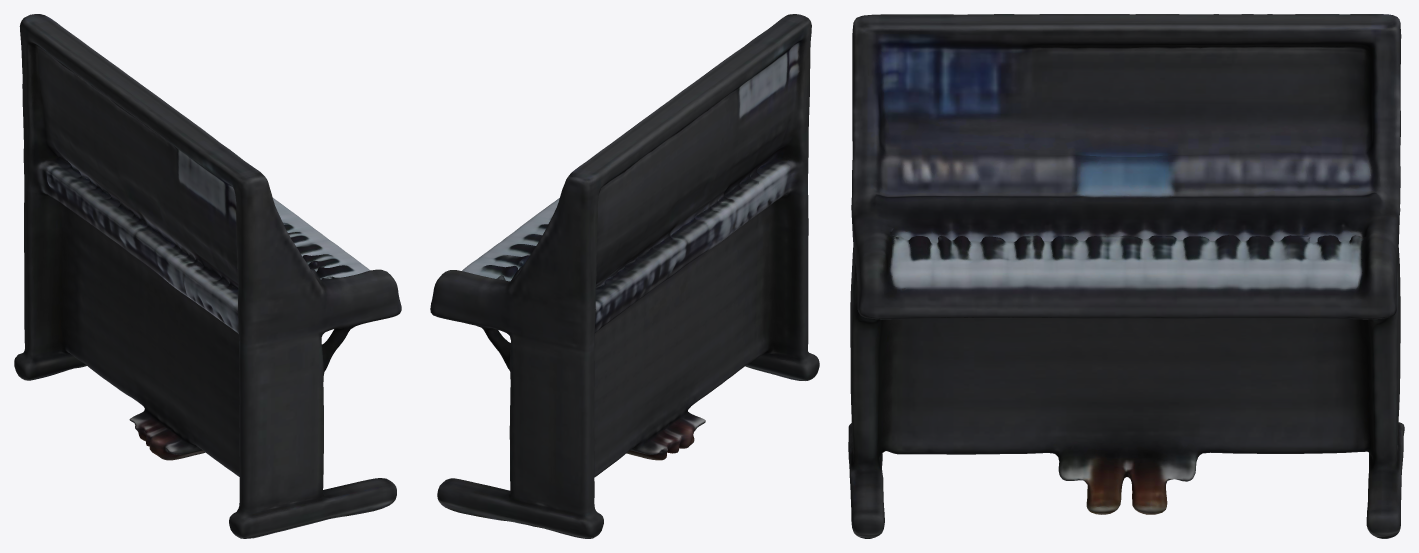
The model's file is kawai.glb.
3 renders of one model, left to right at view 1: azimuth 30°, elevation 25°; view 2: azimuth 150°, elevation 25°; view 3: azimuth 270°, elevation 25°, orthographic. The views are drawn at different scales.
Parts seen in each view (by area): view 1: high_poly; view 2: high_poly; view 3: high_poly.
Boxes of the visible parts, x1=… form: high_poly: x1=14, y1=14, x2=401, y2=538; high_poly: x1=430, y1=14, x2=819, y2=538; high_poly: x1=848, y1=14, x2=1404, y2=538.
Size of the model in its own units: 0.4232 by 0.8784 by 1.
1 material, 1 textured.
